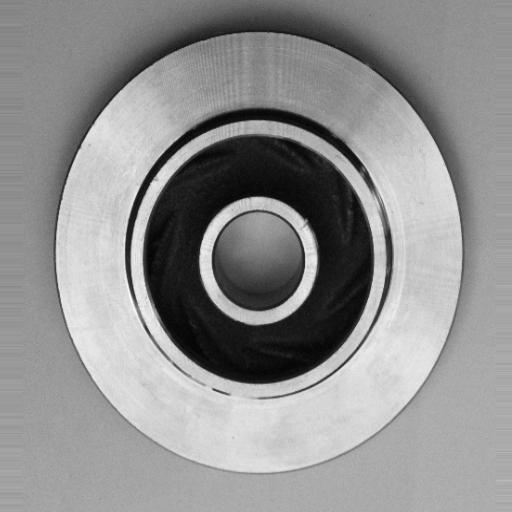scratch: (180, 366, 282, 416)
unpolished_casting: (52, 25, 460, 480)
